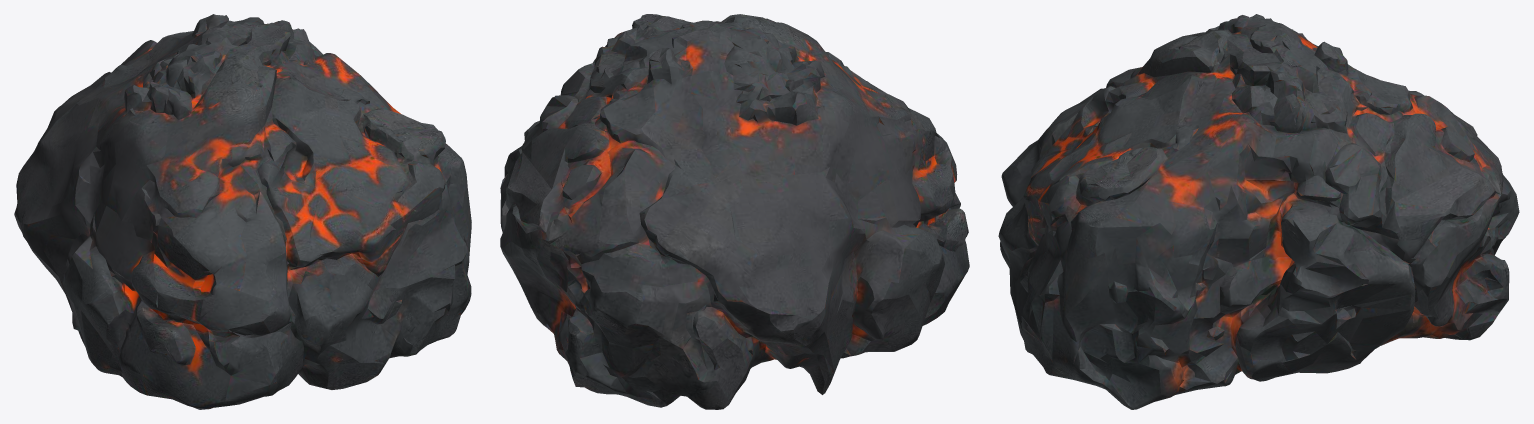
File: min4-lava_rock-final.glb
3 renders of one model, left to right at view 1: azimuth 30°, elevation 25°; view 2: azimuth 150°, elevation 25°; view 3: azimuth 270°, elevation 25°, orthographic. The views are drawn at different scales.
Parts seen in each view (by area): view 1: Mesh_0; view 2: Mesh_0; view 3: Mesh_0.
Part boxes in pixels (box(x1,y1,x2,y2)): Mesh_0: box(14, 14, 471, 409); Mesh_0: box(500, 14, 969, 409); Mesh_0: box(998, 14, 1519, 409).
Bounding box in the file's own units: 1.23 × 1 × 1.46.
1 material, 1 textured.
